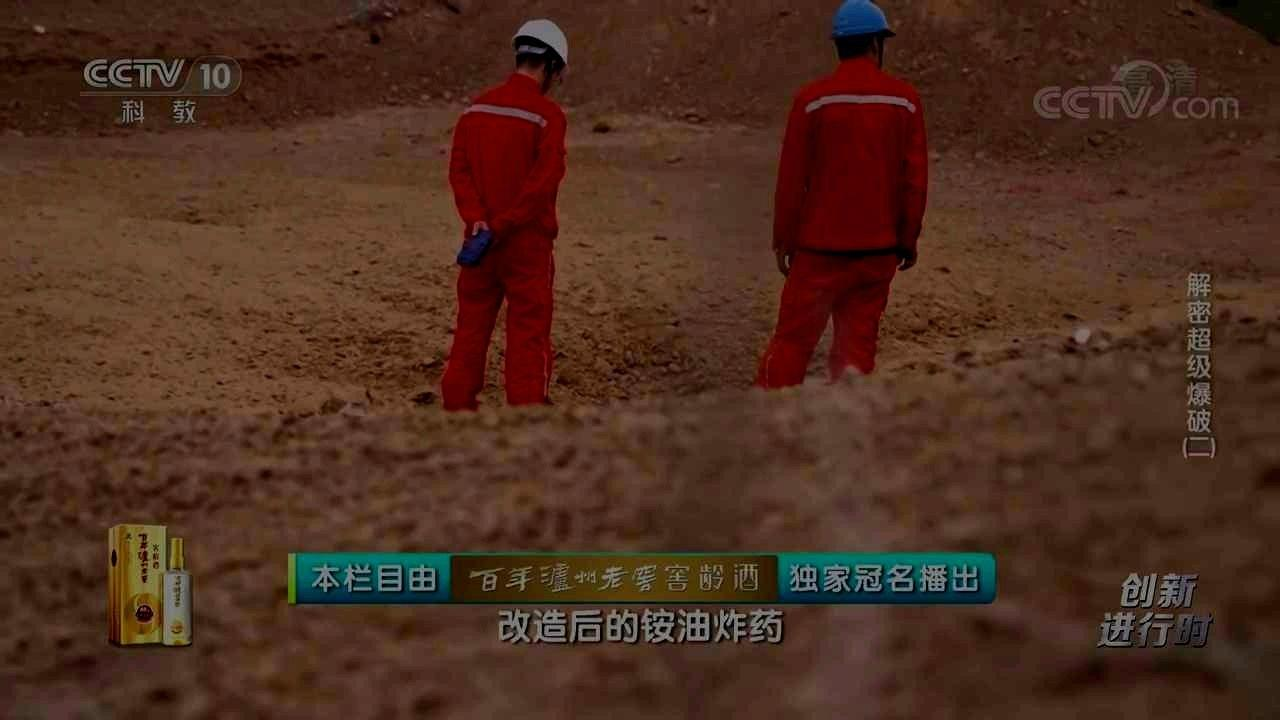helmet: (511, 17, 569, 96), (830, 1, 897, 69)
